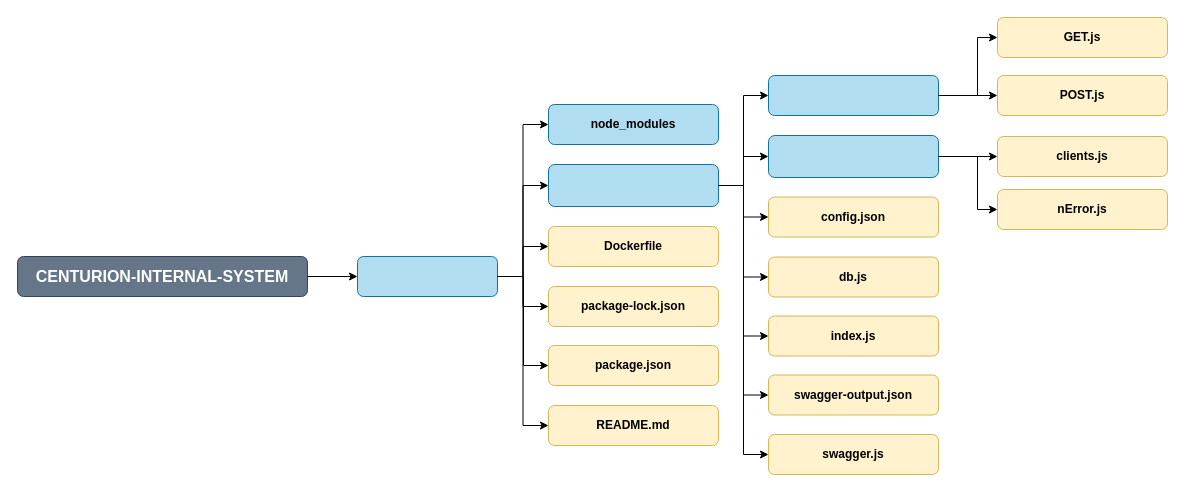
This 1185x492 diagram has some shape labels left out. Here are the shapes that lost their labels. From the top down, the box of each, then its label:
(768, 74, 938, 116): apis
(768, 134, 938, 178): utils
(548, 164, 718, 206): src
(356, 256, 498, 296): OPENAI
